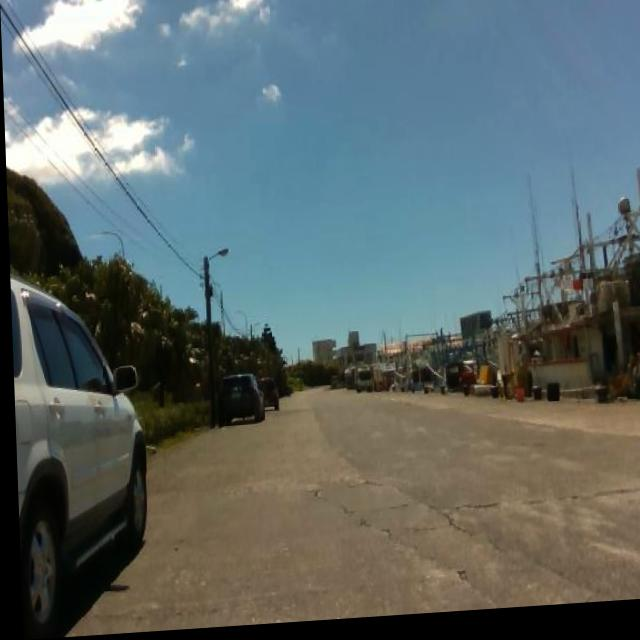pollute: (143, 446, 157, 458)
